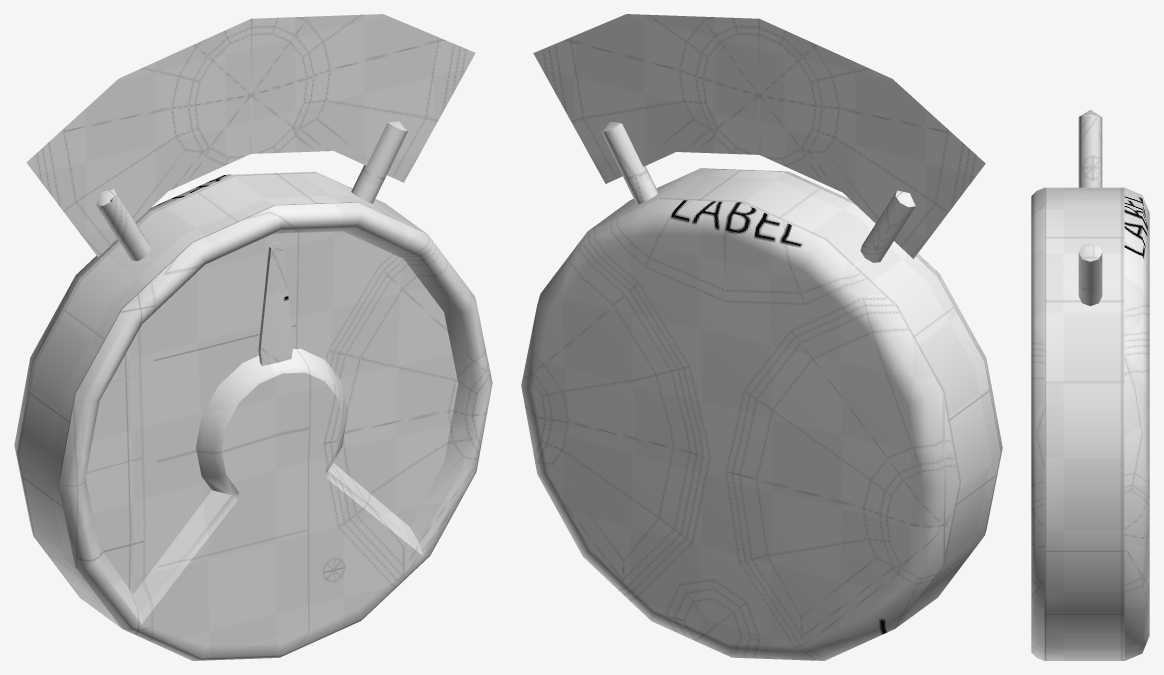
Rendered from gauge_basic.fbx.
The picture shows the model from 3 angles, left to right: view 1: azimuth 30°, elevation 25°; view 2: azimuth 150°, elevation 25°; view 3: azimuth 270°, elevation 25°; orthographic projection. The views are drawn at different scales.
Visible parts, largest first — view 1: gauge_body, gauge_label, gauve_needle; view 2: gauge_body, gauge_label; view 3: gauge_body, gauge_label.
Part boxes in pixels (<box>): gauge_body: <box>14,171,492,660</box>; gauge_label: <box>26,14,475,260</box>; gauve_needle: <box>258,241,293,365</box>; gauge_body: <box>521,168,1002,660</box>; gauge_label: <box>533,14,985,262</box>; gauge_body: <box>1031,187,1149,660</box>; gauge_label: <box>1078,110,1102,305</box>.
Bounding box in the file's own units: 41.58 × 54.95 × 10.
